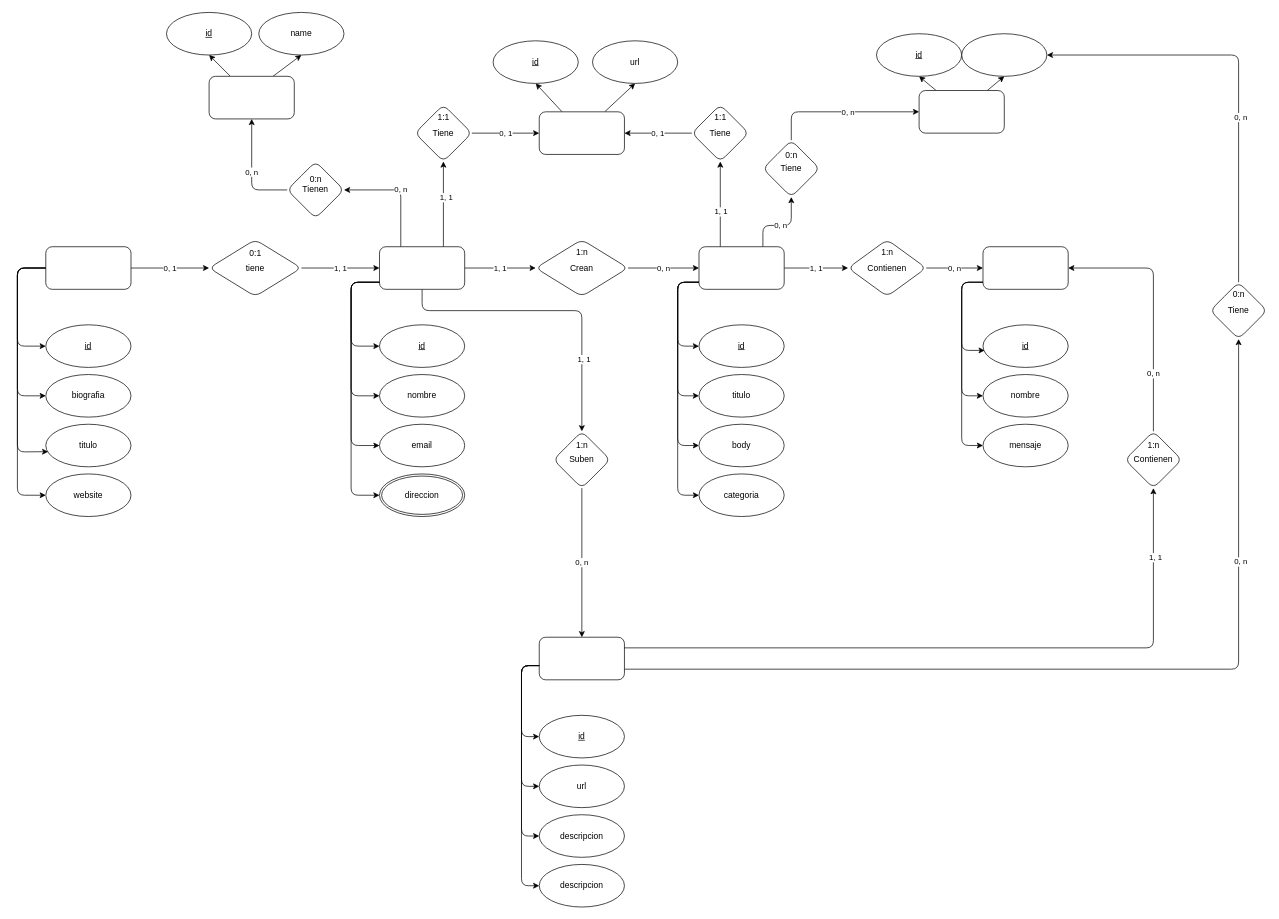
Some shapes in this 1279 by 919 pixel diagram are drawn without their labels. The shapes that lost their labels are listed below. From the top down, each one's centre as x and y in pixels, then its label:
At point (1004, 54): "tag".
At point (251, 97): "Roles".
At point (961, 111): "tags".
At point (581, 132): "Pictures".
At point (88, 267): "Perfil".
At point (422, 267): "Users".
At point (741, 267): "Posts".
At point (1025, 267): "Comentarios".
At point (581, 658): "Video".
